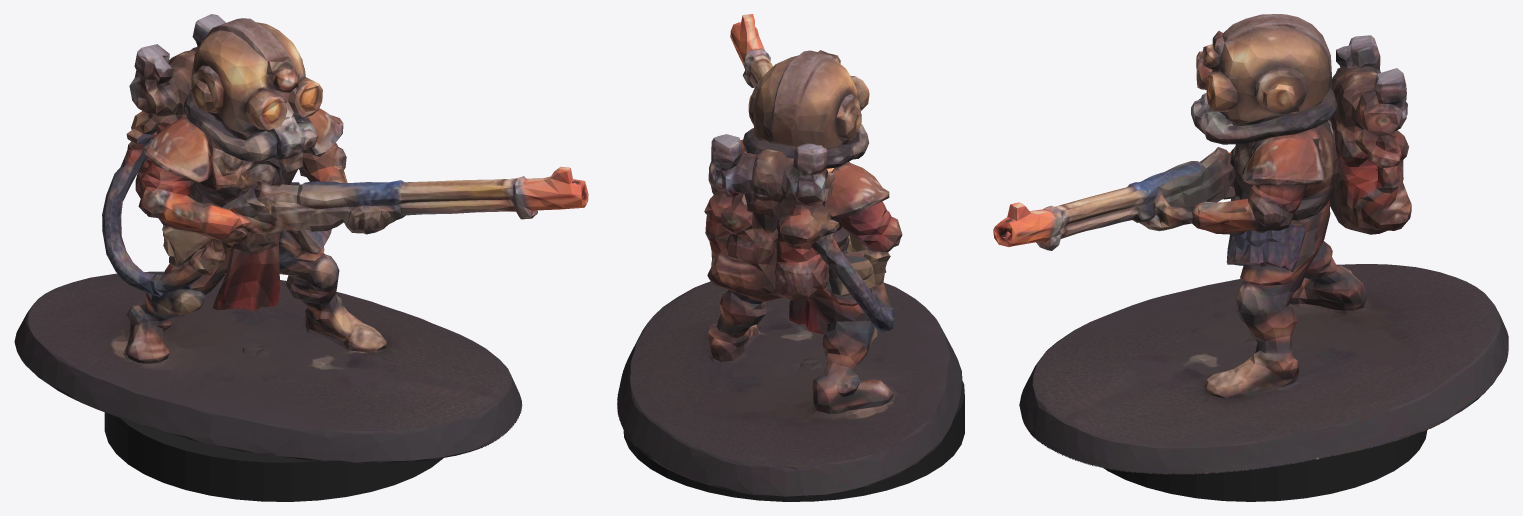
The model's file is hc-skitarii-vanguard-gunner.glb.
3 renders of one model, left to right at view 1: azimuth 30°, elevation 25°; view 2: azimuth 150°, elevation 25°; view 3: azimuth 270°, elevation 25°, orthographic. The views are drawn at different scales.
Parts seen in each view (by area): view 1: figure, base; view 2: figure, base; view 3: figure, base.
Boxes of the visible parts, bbox=[...] form: figure: bbox=[14, 14, 588, 463]; base: bbox=[104, 412, 443, 501]; figure: bbox=[617, 14, 962, 498]; base: bbox=[623, 380, 964, 501]; figure: bbox=[993, 14, 1508, 474]; base: bbox=[1104, 430, 1427, 501].
Bounding box in the file's own units: 1.19 × 1.22 × 1.43.
Materials: 2 (1 with a texture image).
